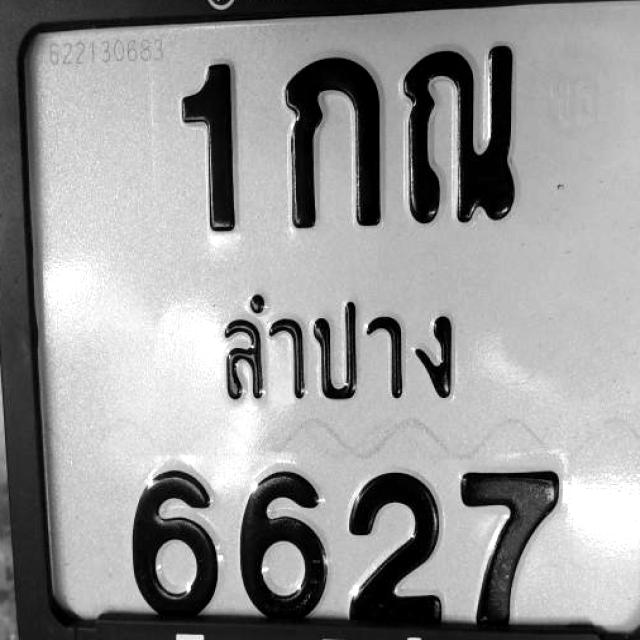letters: (396, 53, 532, 216), (280, 55, 390, 231), (456, 472, 578, 629), (115, 466, 224, 631), (347, 478, 458, 629), (223, 469, 325, 625), (167, 66, 254, 223)
license-plate: (4, 0, 640, 640)
province: (179, 288, 472, 415)
